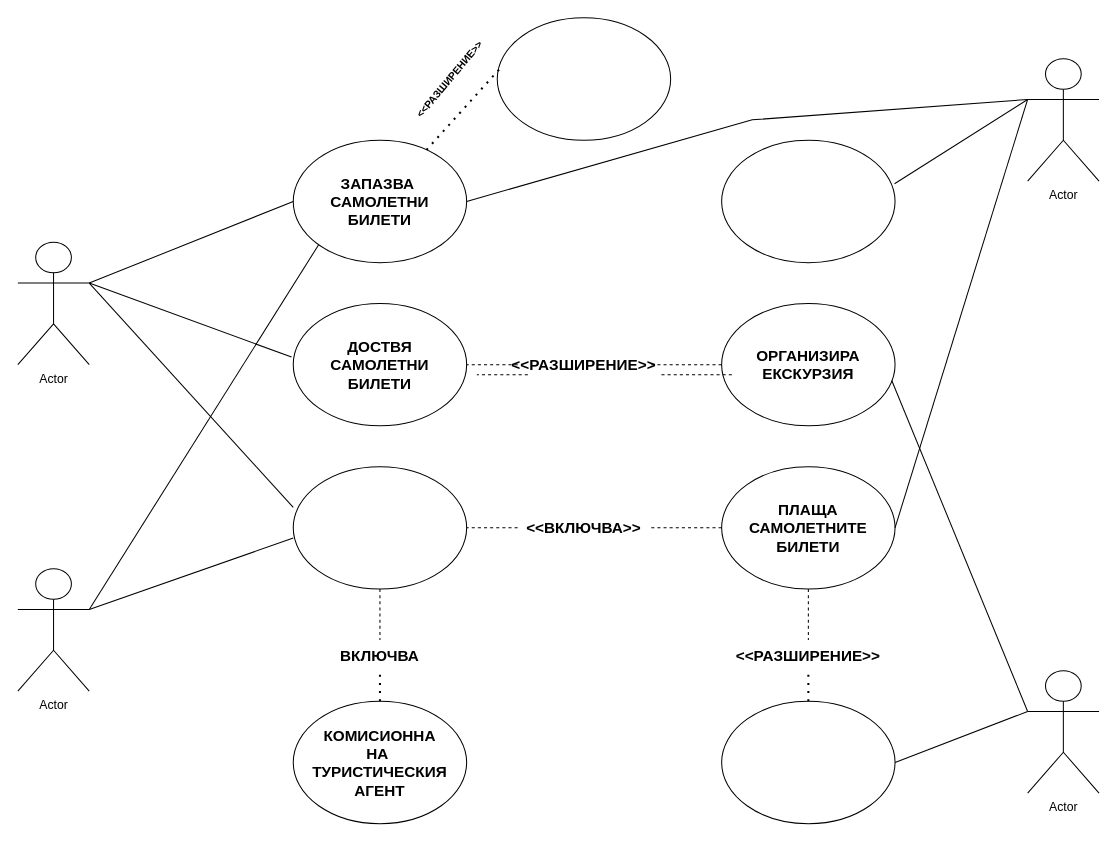
Image size: 1117x842. Some labels were removed from this diagram. The shapes that lost their labels are listed below. From the top down, each one's centre as x and y in pixels, then its label:
the point at 583,78: РЕЗЕРВИРА EКСКУРЗИЯ
the point at 808,201: ЗАПАЗВА САМОЛЕТНА СЕДАЛКА
the point at 379,527: ПЛАЩА ТАКСИ ЗА ПЪТУВАНЕ
the point at 808,762: ПЛАЩА ЕКСКУРЗИЯ
